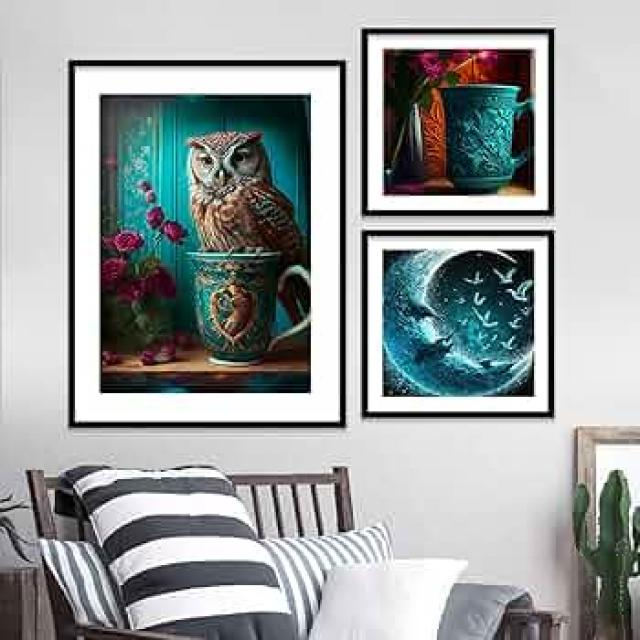painting: (67, 57, 345, 426), (362, 27, 556, 215), (361, 231, 554, 419)
